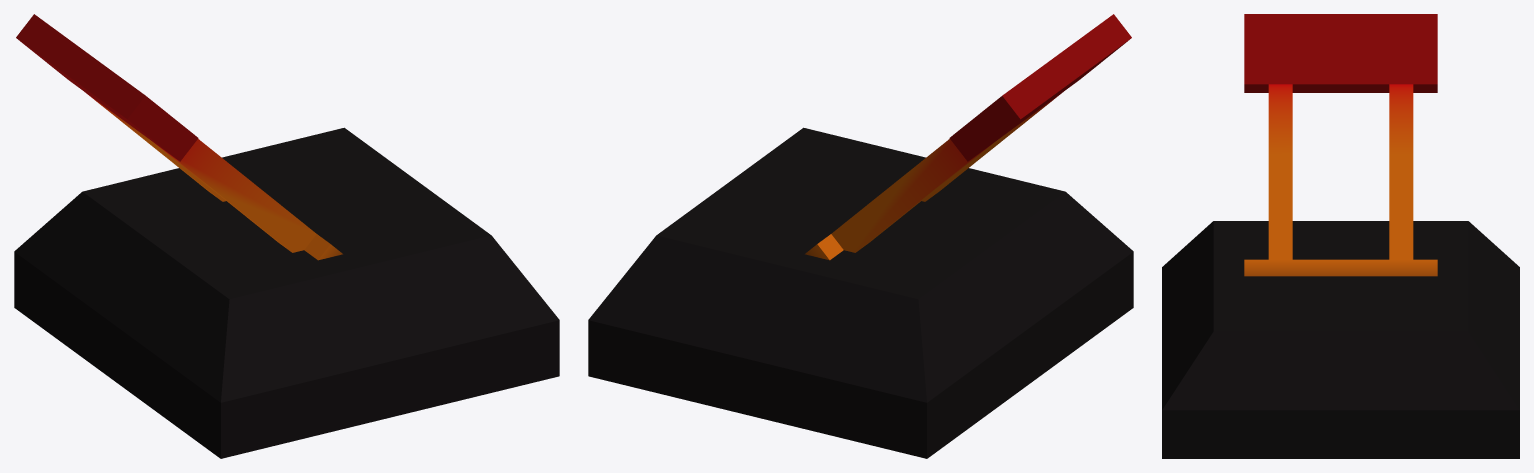
Rendered from Lever.fbx.
3 renders of one model, left to right at view 1: azimuth 30°, elevation 25°; view 2: azimuth 150°, elevation 25°; view 3: azimuth 270°, elevation 25°, orthographic. The views are drawn at different scales.
Visible parts, largest first — view 1: Base, Alavanca; view 2: Base, Alavanca; view 3: Base, Alavanca.
Part boxes in pixels (box(x1,y1,x2,y2)): Base: box(14, 127, 559, 458); Alavanca: box(16, 14, 342, 260); Base: box(588, 127, 1133, 458); Alavanca: box(805, 14, 1131, 260); Base: box(1162, 221, 1519, 458); Alavanca: box(1244, 14, 1437, 276).
Size of the model in its own units: 557 by 463 by 518.
